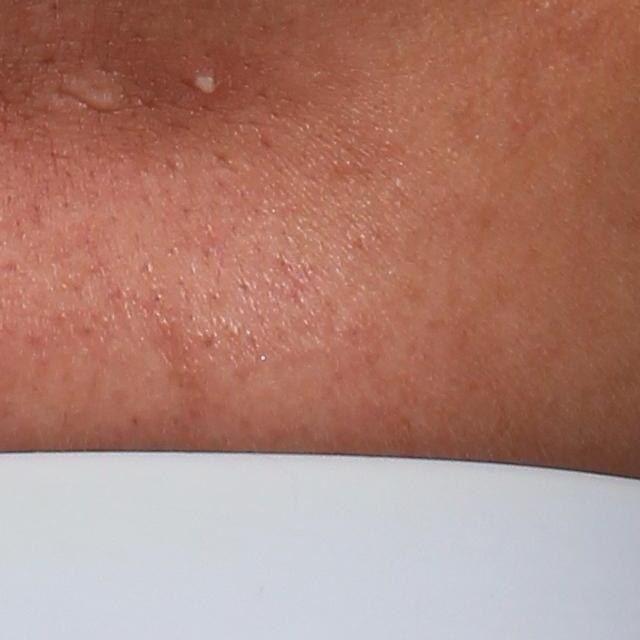hypertrophic_scar: (66, 77, 120, 112)
pustule: (176, 58, 233, 99)
